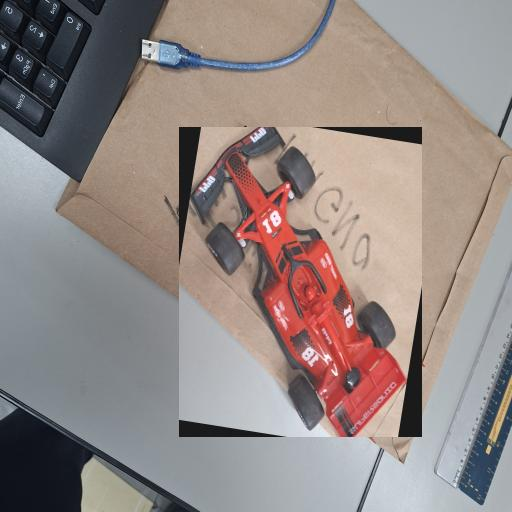carro: (179, 128, 421, 437)
